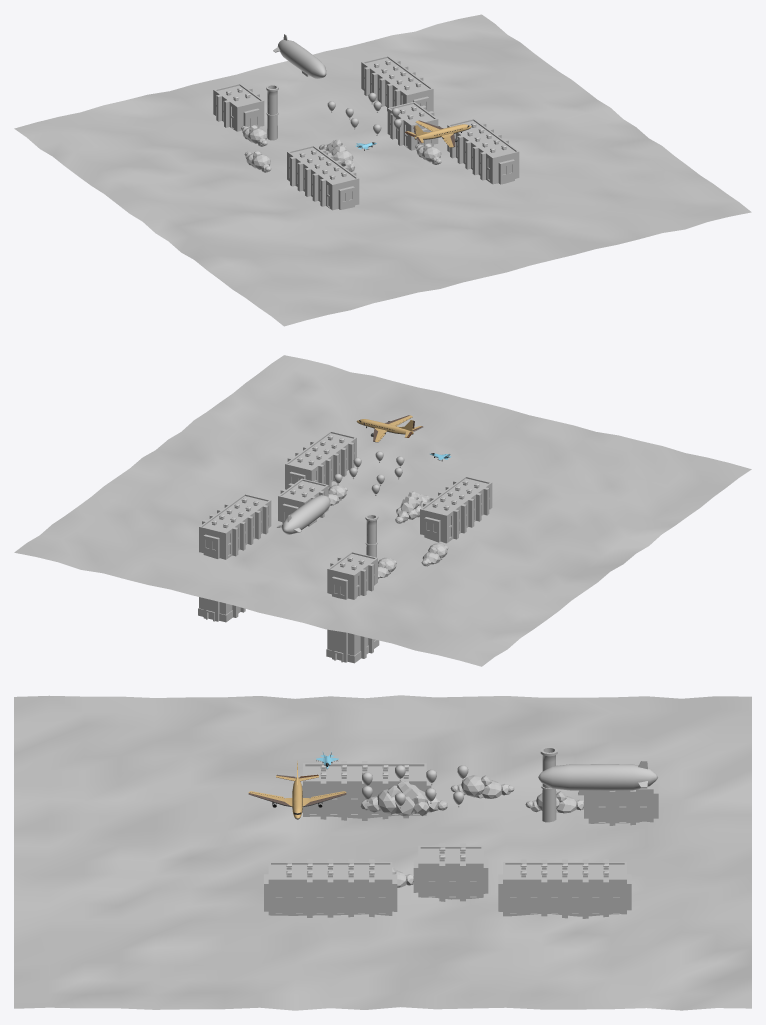
Rendered from changjing8_6.fbx.
3 views of the same model, one above another, from view 1: azimuth 30°, elevation 25°; view 2: azimuth 150°, elevation 25°; view 3: azimuth 270°, elevation 25° (orthographic). The views are drawn at different scales.
Parts seen in each view (by area): view 1: tiankong, jianzhuwu, jianzhuwu3, feiting, FeiJi006; view 2: tiankong, jianzhuwu, jianzhuwu3, feiting, FeiJi006; view 3: tiankong, jianzhuwu, jianzhuwu3, feiting, FeiJi006.
Boxes of the visible parts, x1=… form: tiankong: x1=14, y1=14, x2=751, y2=326; jianzhuwu: x1=244, y1=84, x2=519, y2=210; jianzhuwu3: x1=213, y1=55, x2=433, y2=146; feiting: x1=273, y1=34, x2=326, y2=78; FeiJi006: x1=405, y1=120, x2=471, y2=147; tiankong: x1=14, y1=355, x2=751, y2=666; jianzhuwu: x1=278, y1=431, x2=492, y2=566; jianzhuwu3: x1=198, y1=493, x2=396, y2=663; feiting: x1=277, y1=495, x2=330, y2=534; FeiJi006: x1=356, y1=415, x2=423, y2=442; tiankong: x1=14, y1=695, x2=751, y2=1010; jianzhuwu: x1=264, y1=746, x2=557, y2=917; jianzhuwu3: x1=498, y1=771, x2=658, y2=918; feiting: x1=538, y1=761, x2=657, y2=795; FeiJi006: x1=248, y1=761, x2=346, y2=819.
Size of the model in its own units: 34312 by 9084 by 34312.
